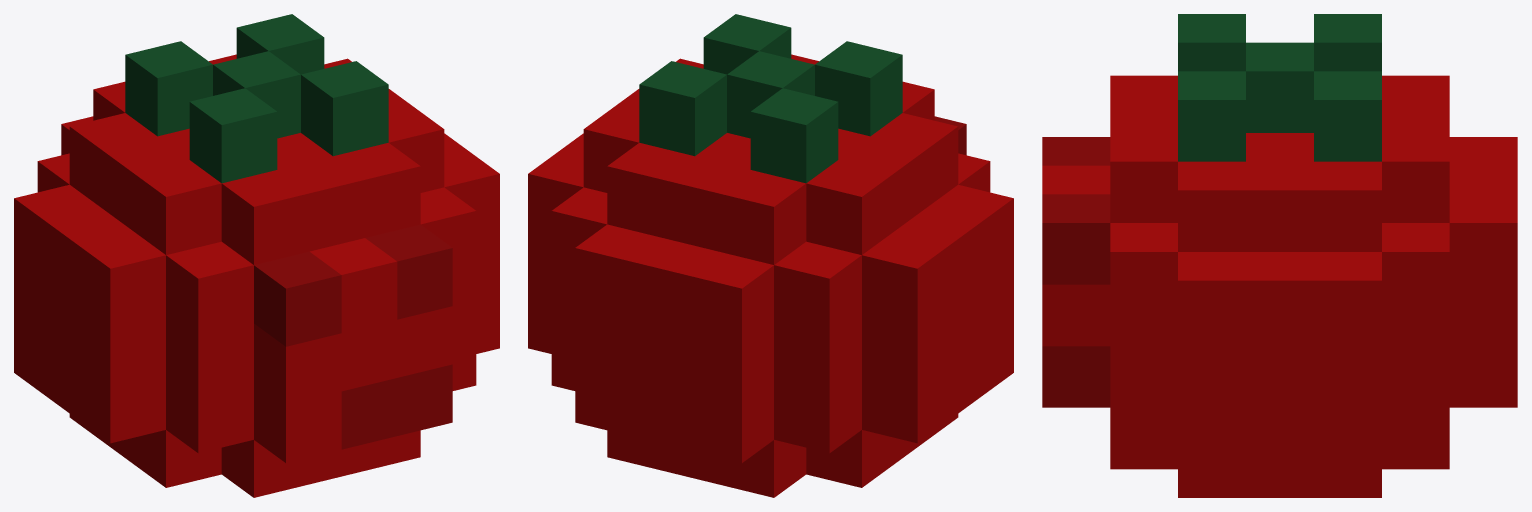
File: tomato.obj
The picture shows the model from 3 angles, left to right: view 1: azimuth 30°, elevation 25°; view 2: azimuth 150°, elevation 25°; view 3: azimuth 270°, elevation 25°; orthographic projection. The views are drawn at different scales.
Bounding box in the file's own units: 0.7 × 0.6 × 0.7.
Materials: 1 (1 with a texture image).
